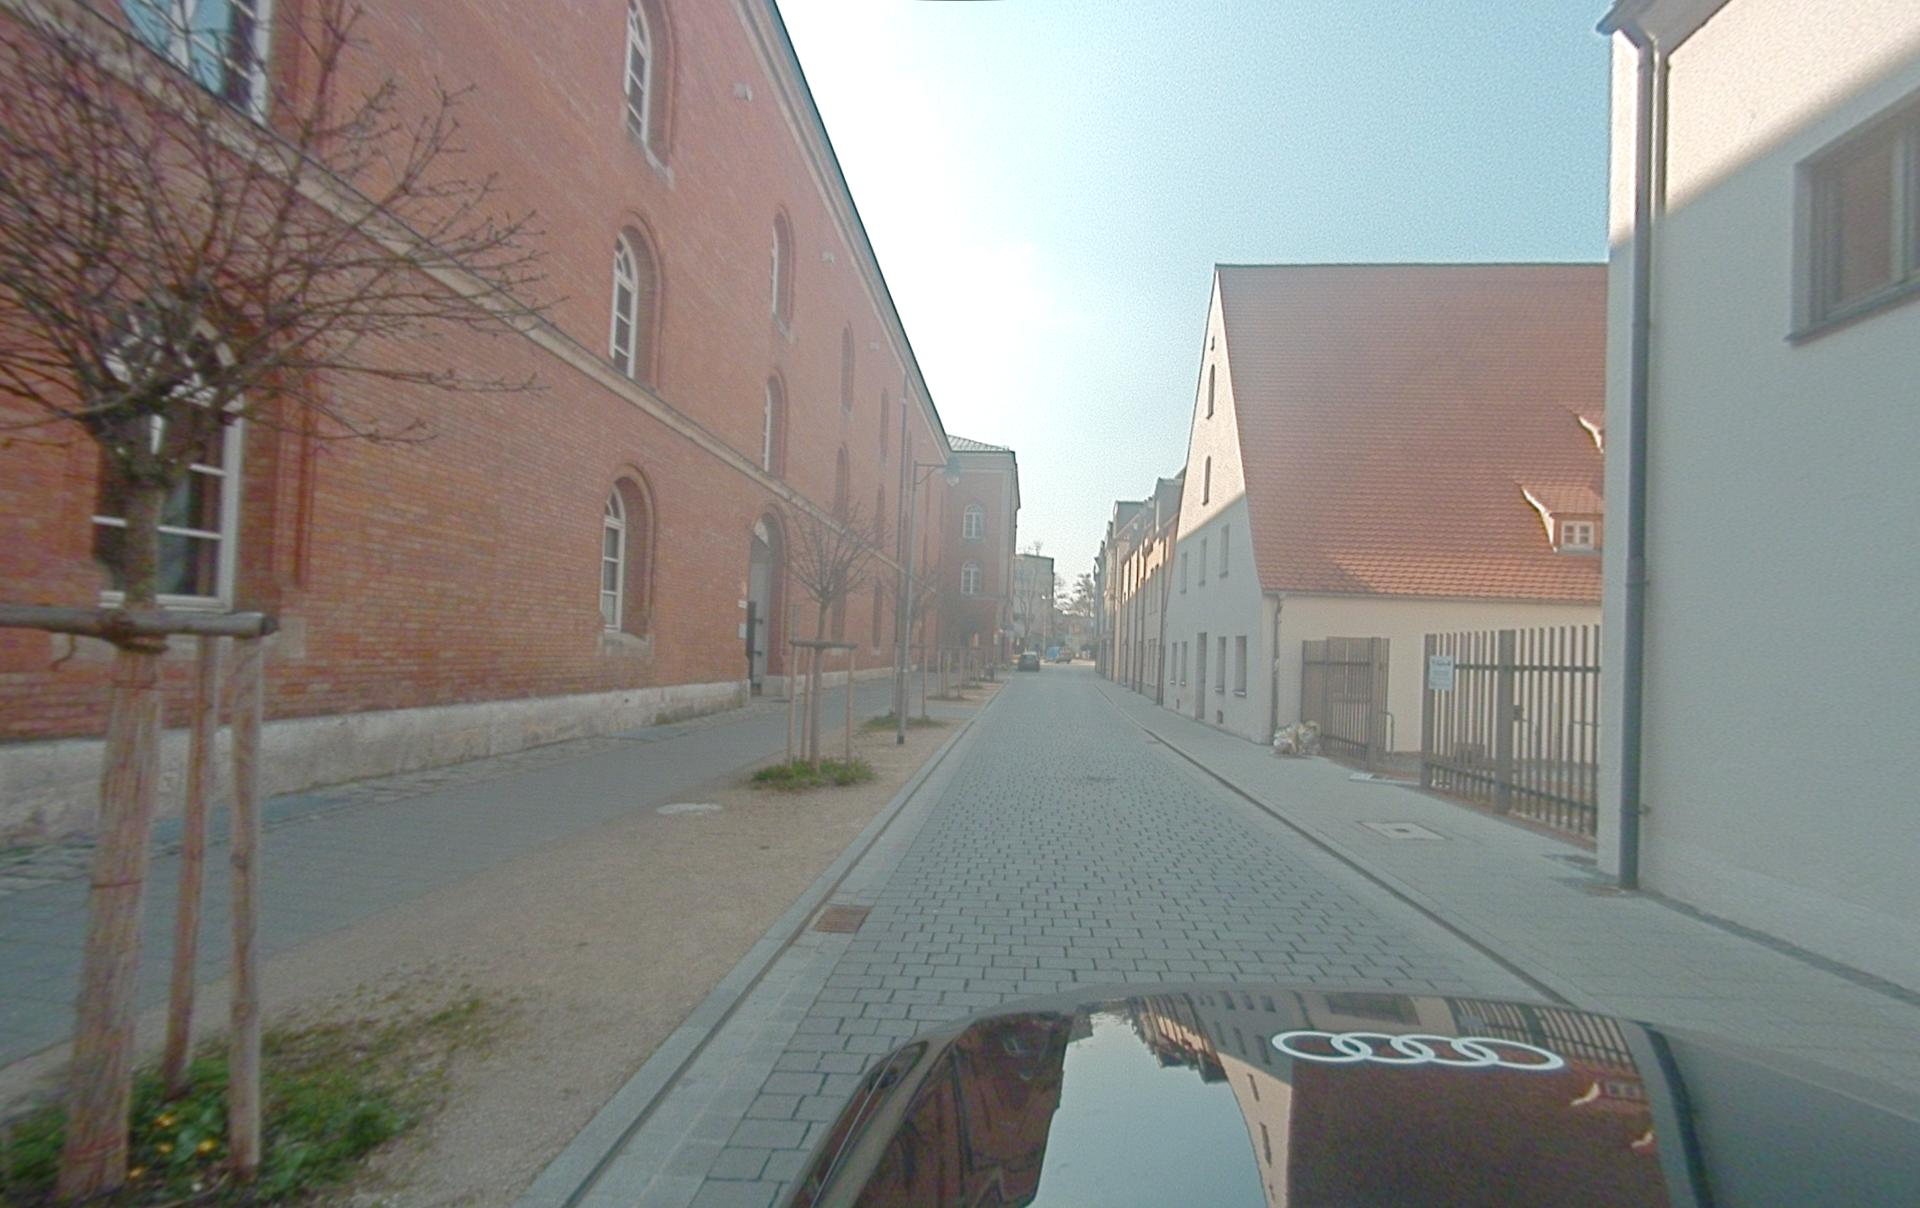car: (774, 983, 1919, 1207), (1046, 646, 1073, 664), (1018, 651, 1041, 672)
traffic sign: (1426, 653, 1455, 692)
